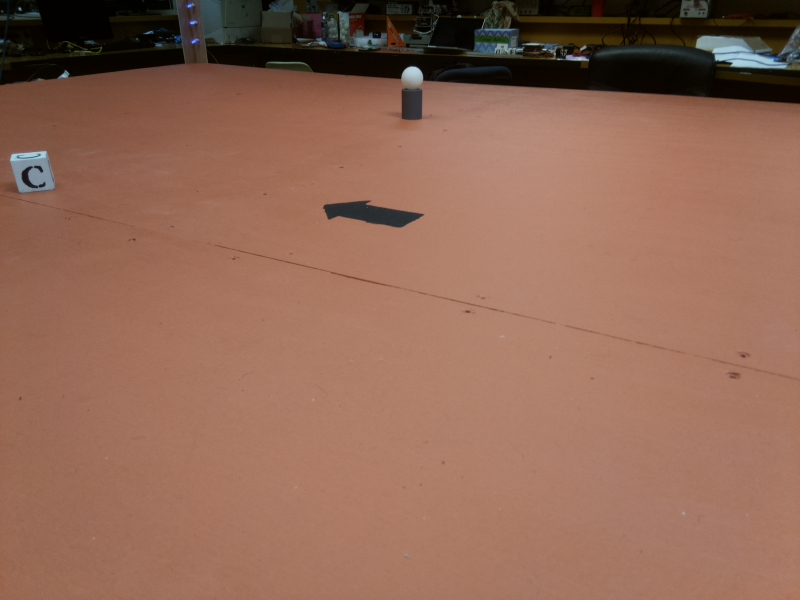blockC: (10, 149, 59, 190)
obstacle: (396, 66, 424, 124)
start: (325, 196, 428, 231)
